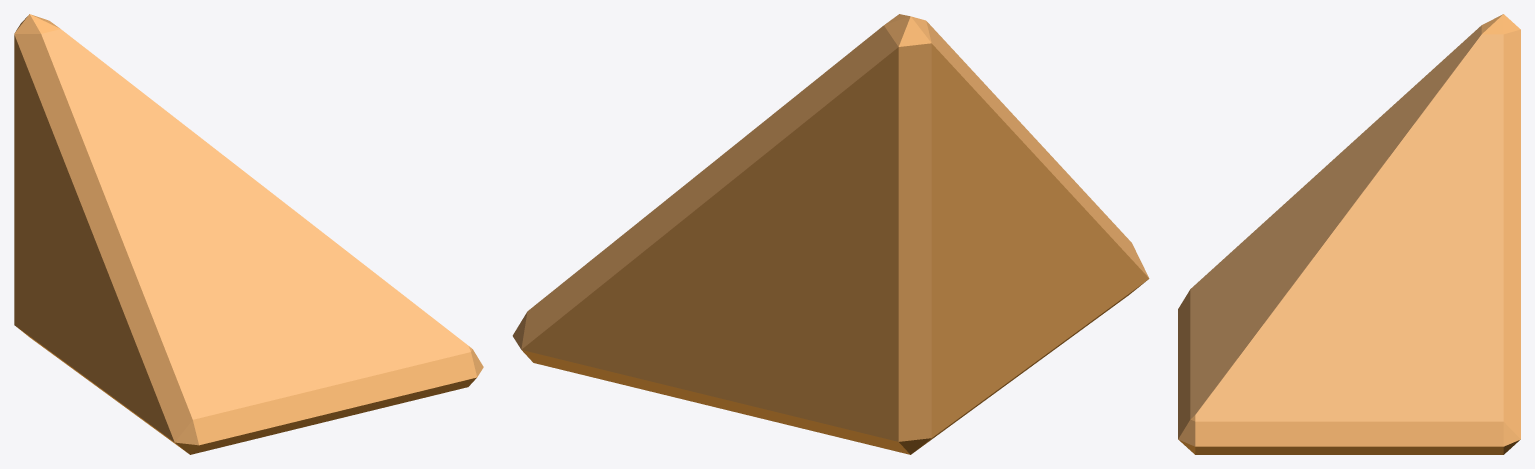
Rendered from m_kub_diagonalClay_cornerOut.FBX.
3 renders of one model, left to right at view 1: azimuth 30°, elevation 25°; view 2: azimuth 150°, elevation 25°; view 3: azimuth 270°, elevation 25°, orthographic. The views are drawn at different scales.
Parts seen in each view (by area): view 1: m_kub_diagonalClay_cornerOut; view 2: m_kub_diagonalClay_cornerOut; view 3: m_kub_diagonalClay_cornerOut.
Boxes of the visible parts, x1,y1,x2,y2 form: m_kub_diagonalClay_cornerOut: (14,14,483,454); m_kub_diagonalClay_cornerOut: (512,14,1149,454); m_kub_diagonalClay_cornerOut: (1178,14,1520,454).
Bounding box in the file's own units: 2 × 2 × 2.
